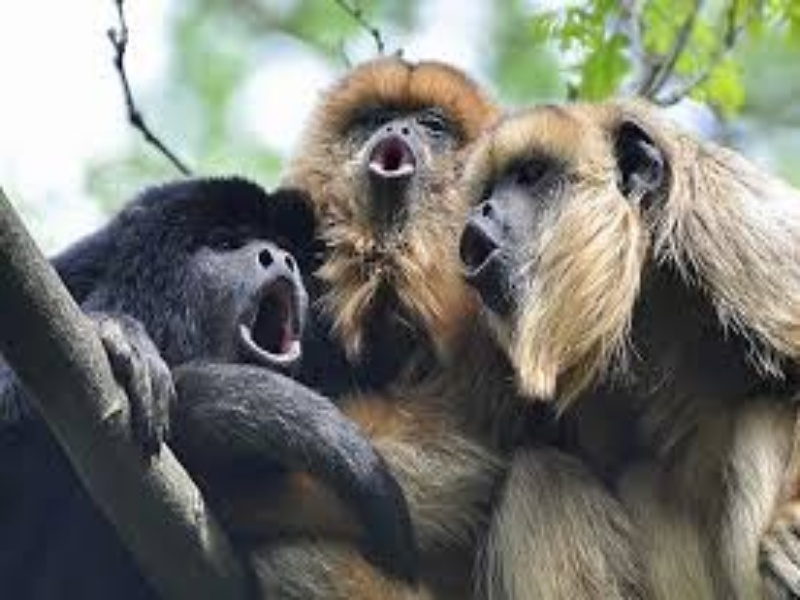monkey: (83, 49, 779, 569)
